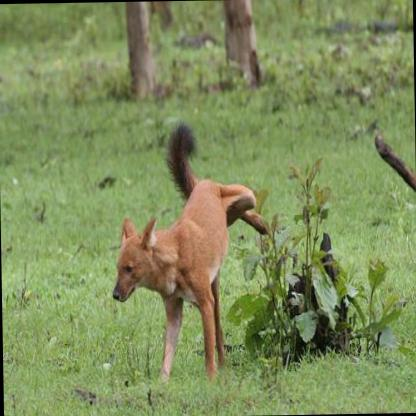dhole: (110, 123, 270, 384)
